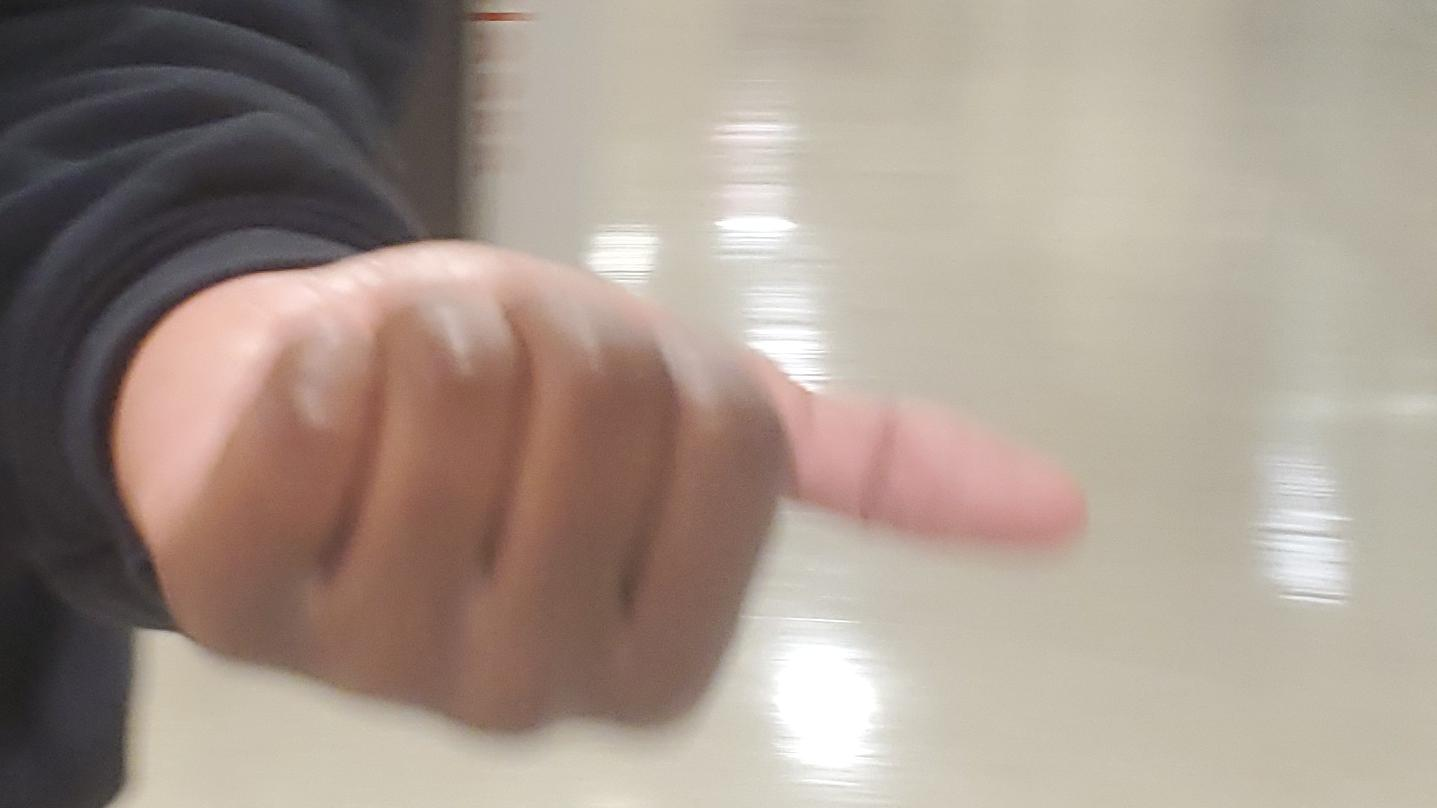left: (0, 0, 1436, 808)
